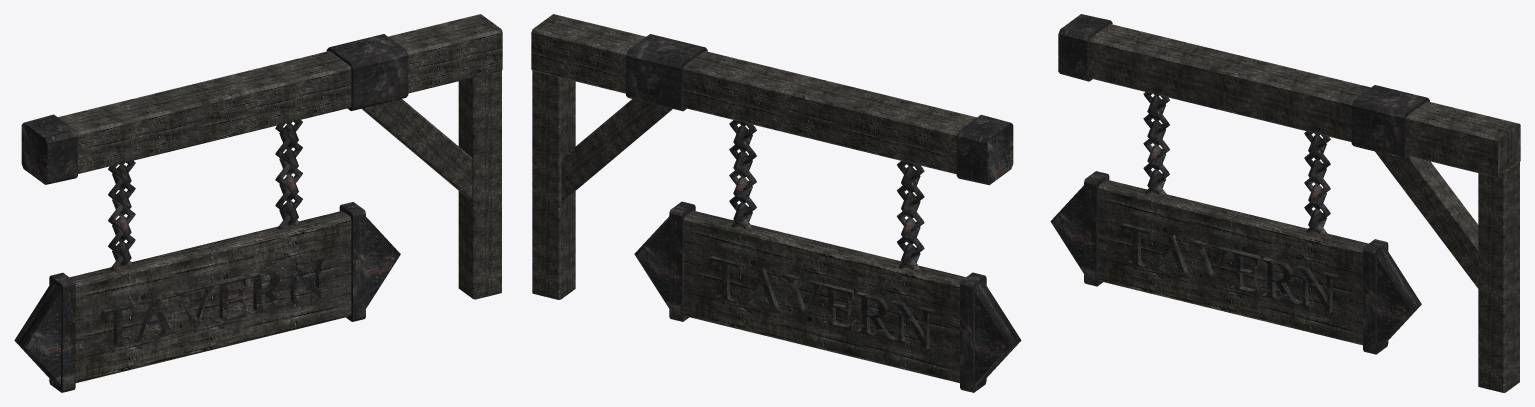
Rendered from Shop_Sign_2.fbx.
The picture shows the model from 3 angles, left to right: view 1: azimuth 30°, elevation 25°; view 2: azimuth 150°, elevation 25°; view 3: azimuth 330°, elevation 25°; orthographic projection. The views are drawn at different scales.
Parts seen in each view (by area): view 1: Shop_Sign_2; view 2: Shop_Sign_2; view 3: Shop_Sign_2.
Boxes of the visible parts, left/top/right/bottom form: Shop_Sign_2: left=14, top=14, right=502, bottom=392; Shop_Sign_2: left=531, top=14, right=1021, bottom=392; Shop_Sign_2: left=1050, top=14, right=1520, bottom=392.
Bounding box in the file's own units: 127 × 68.45 × 12.14.
